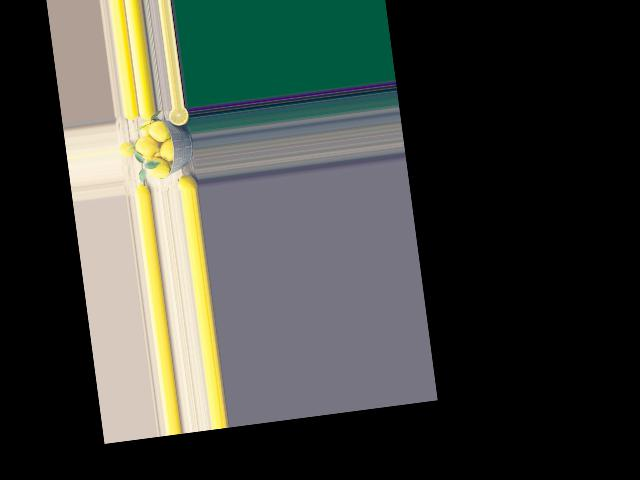lemon: (147, 118, 176, 145)
